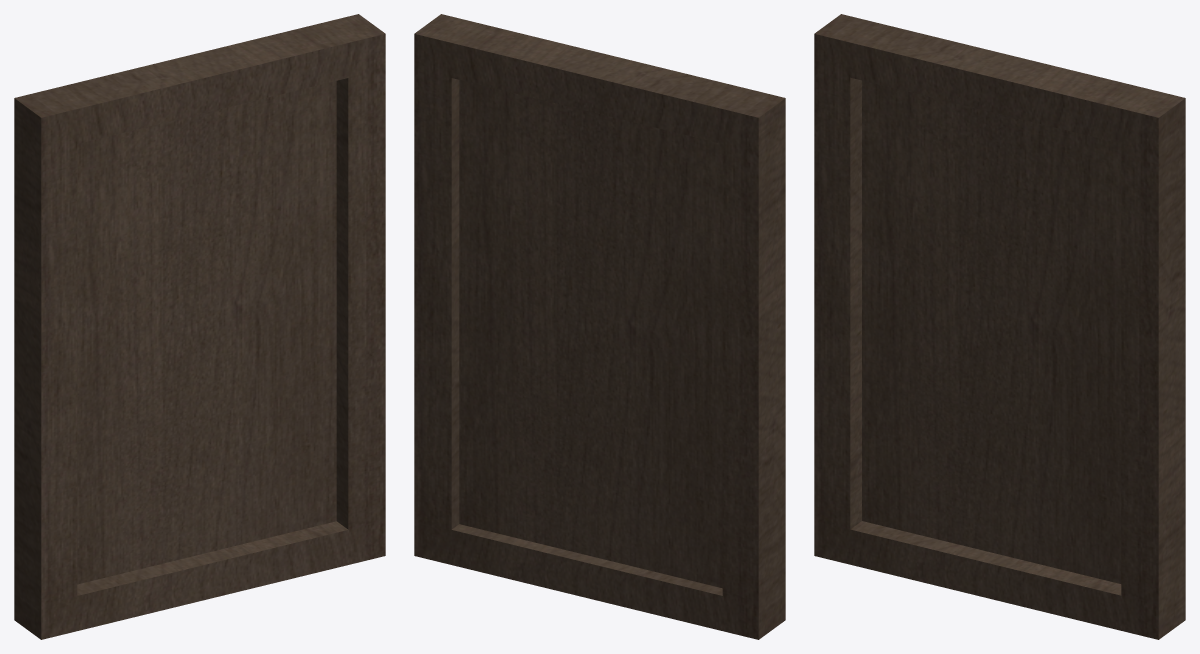
File: Window_01.obj
3 views of the same model, side by side, from view 1: azimuth 30°, elevation 25°; view 2: azimuth 150°, elevation 25°; view 3: azimuth 330°, elevation 25° (orthographic).
Visible parts, largest first — view 1: window_01; view 2: window_01; view 3: window_01.
Boxes of the visible parts, left/top/right/bottom form: window_01: left=14, top=14, right=385, bottom=639; window_01: left=414, top=14, right=785, bottom=639; window_01: left=814, top=14, right=1185, bottom=639.
Size of the model in its own units: 70.97 by 103 by 9.65.
